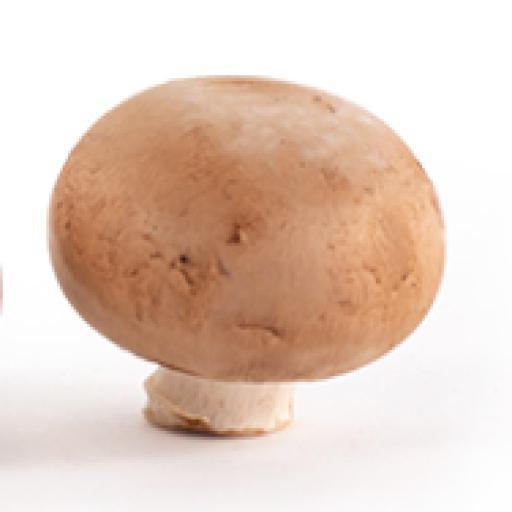mushroom: (43, 68, 451, 441)
